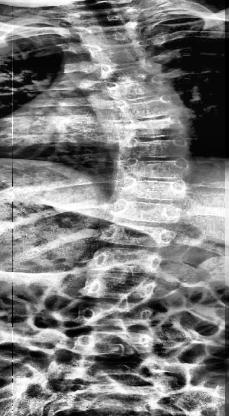Vertebrae: (79, 298, 155, 338), (97, 246, 169, 282), (75, 326, 153, 358), (115, 202, 185, 236), (85, 272, 159, 304), (105, 222, 169, 258), (124, 135, 195, 163), (123, 178, 193, 206), (126, 158, 194, 186), (123, 114, 188, 142), (100, 57, 154, 88), (118, 96, 180, 121), (109, 72, 166, 98), (74, 25, 144, 46), (92, 40, 148, 66)
